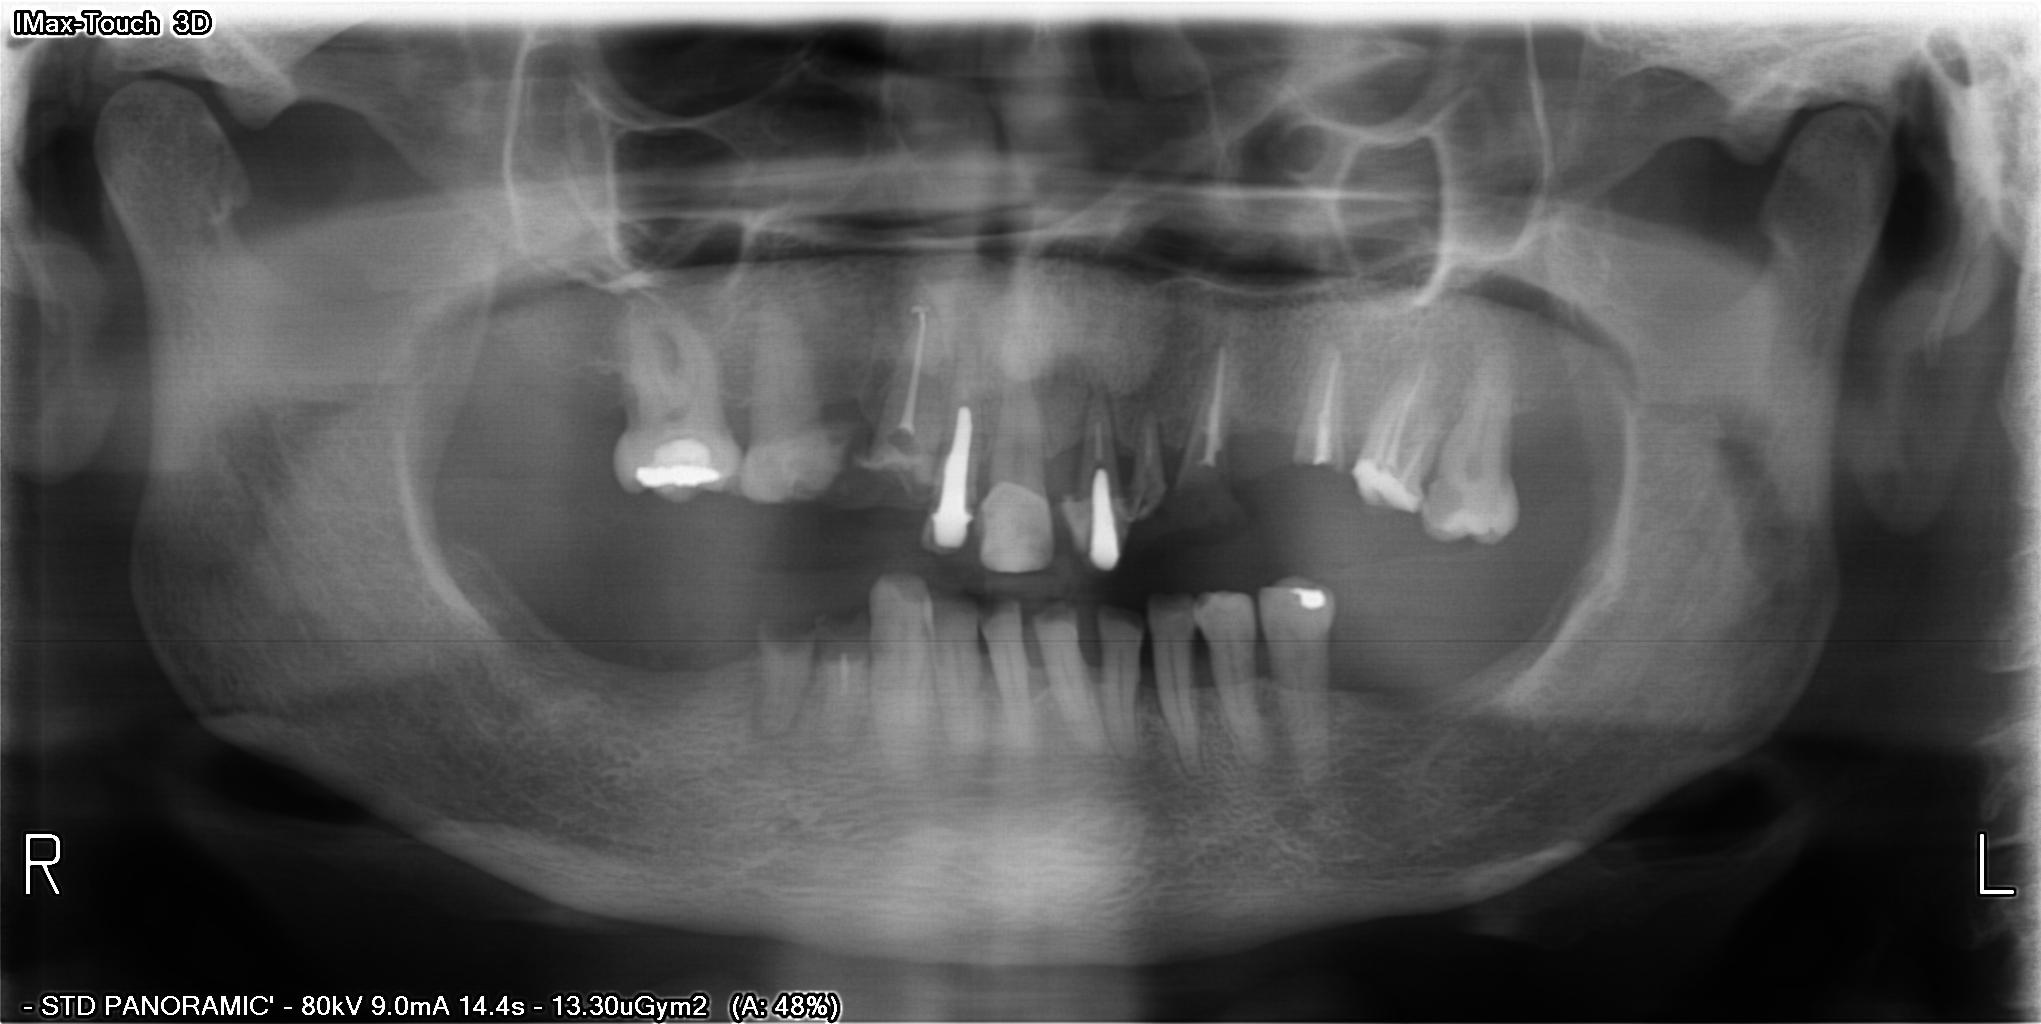Çürük: (925, 388, 985, 556), (615, 431, 734, 494), (975, 478, 1051, 575), (1072, 445, 1127, 573), (1284, 568, 1338, 623)
Çürük Bölgesi: (847, 428, 913, 499), (764, 622, 864, 657), (1426, 483, 1468, 532), (1194, 596, 1213, 616)
